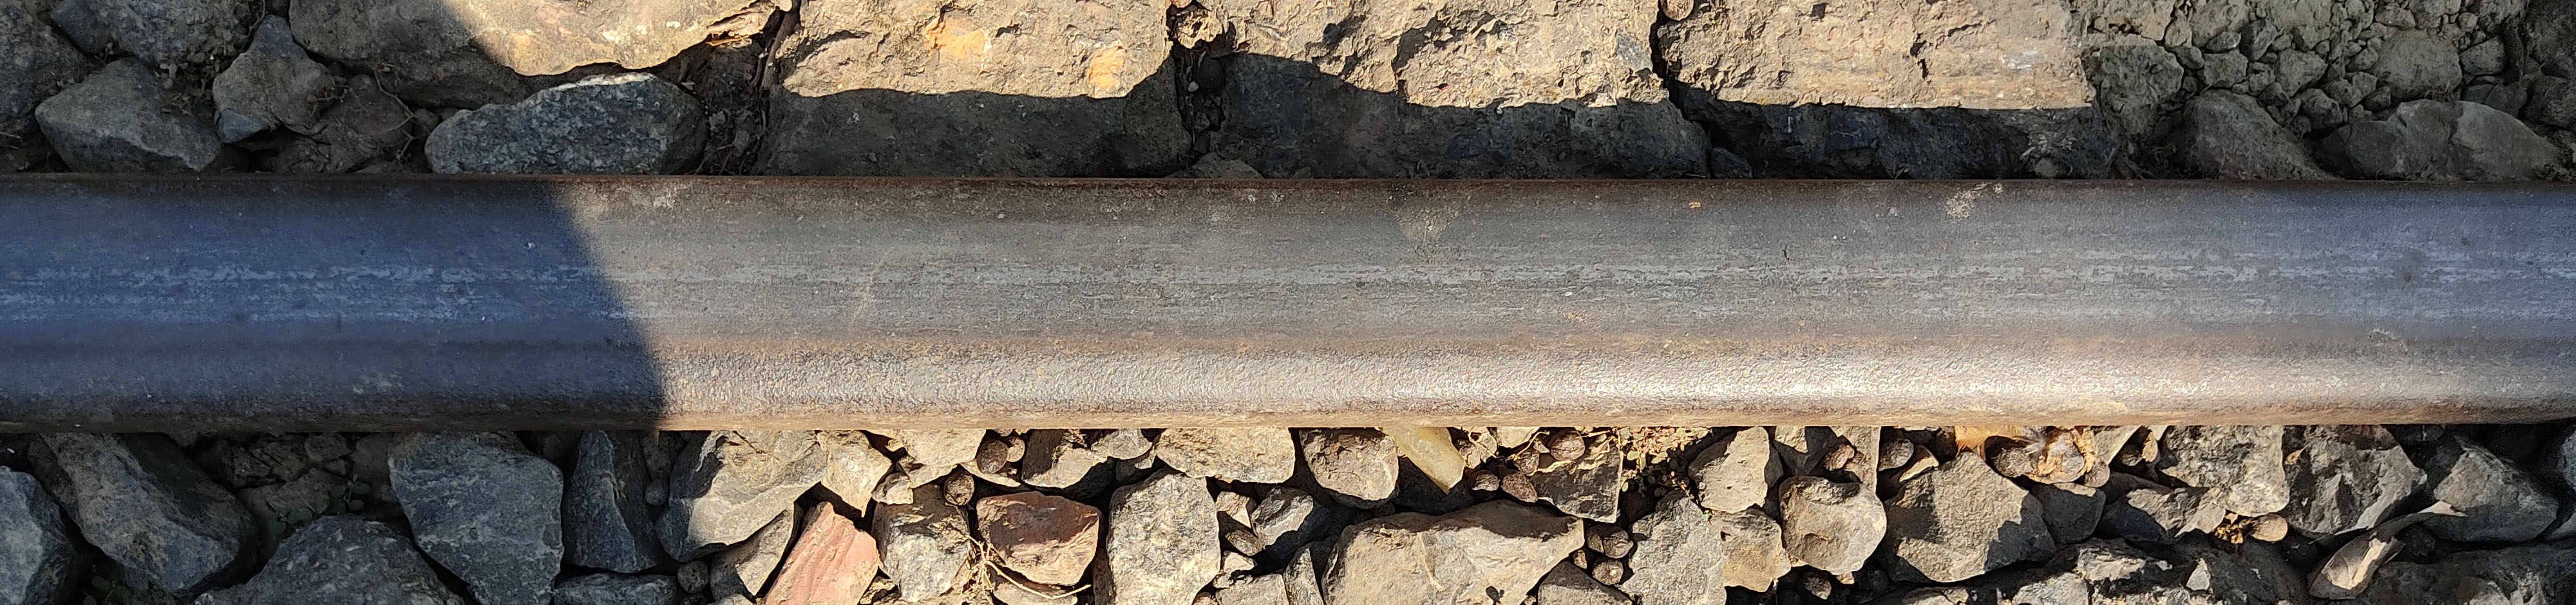error3: (2357, 225, 2528, 345)
